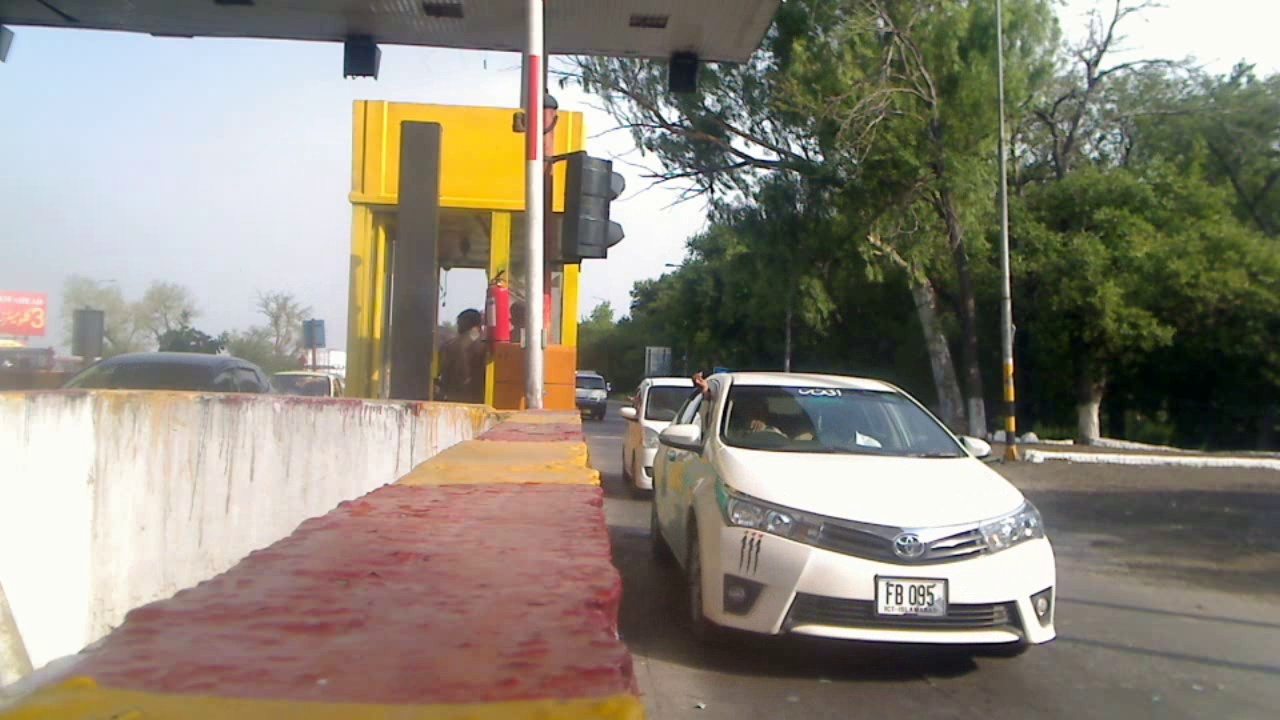Number Plate (Car): (877, 577, 944, 614)
